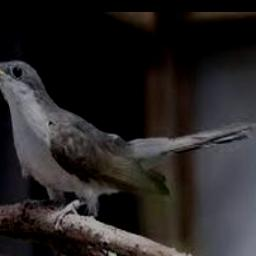Cuckoo: (0, 59, 256, 229)
